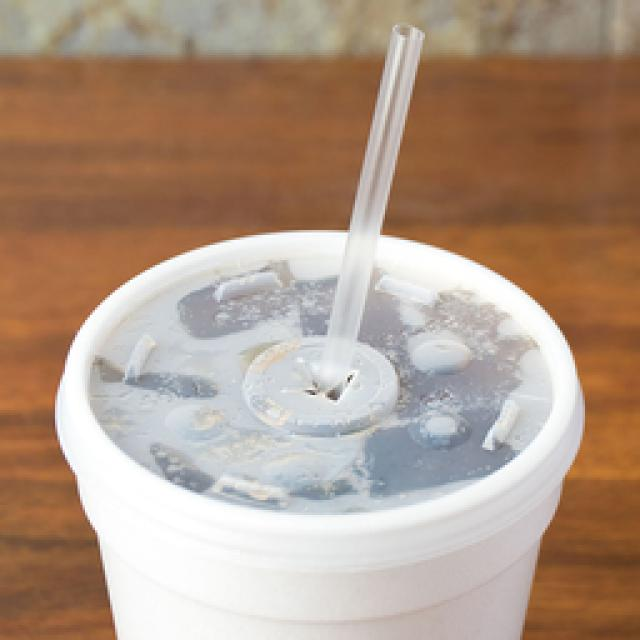styrofoam: (55, 230, 582, 638)
